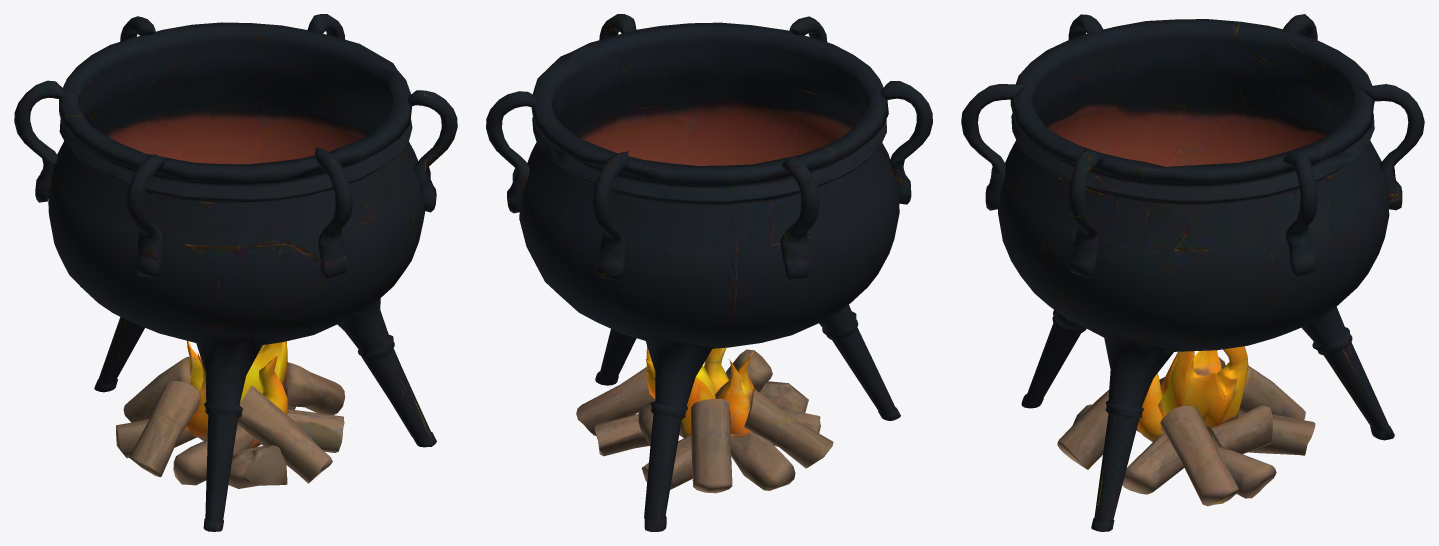
The model's file is cook_pot.glb.
3 renders of one model, left to right at view 1: azimuth 30°, elevation 25°; view 2: azimuth 150°, elevation 25°; view 3: azimuth 270°, elevation 25°, orthographic. The views are drawn at different scales.
Size of the model in its own units: 0.8037 by 0.8516 by 0.9561.
1 material, 1 textured.
